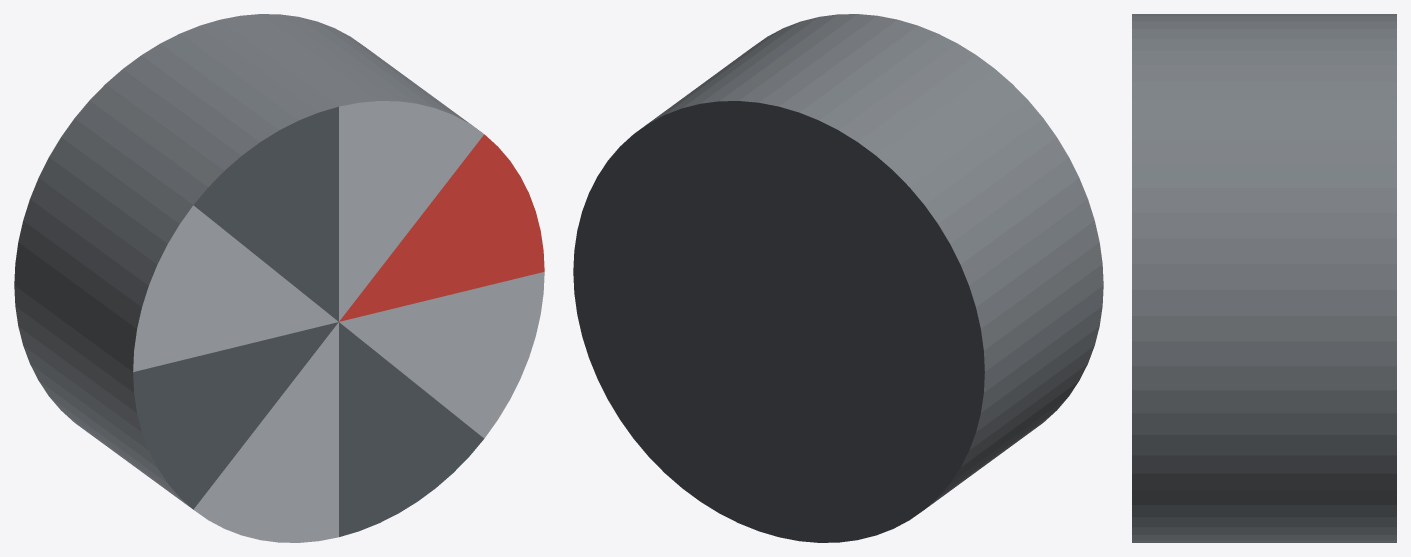
The model's file is fbf_author_turntable_disc.obj.
3 renders of one model, left to right at view 1: azimuth 30°, elevation 25°; view 2: azimuth 150°, elevation 25°; view 3: azimuth 270°, elevation 25°, orthographic. The views are drawn at different scales.
Parts seen in each view (by area): view 1: FbfAuthorTurntableDisc; view 2: FbfAuthorTurntableDisc; view 3: FbfAuthorTurntableDisc.
Boxes of the visible parts, <box> form: FbfAuthorTurntableDisc: <box>14,14,544,542</box>; FbfAuthorTurntableDisc: <box>573,14,1103,542</box>; FbfAuthorTurntableDisc: <box>1132,14,1396,542</box>.
Bounding box in the file's own units: 2 × 2 × 1.
